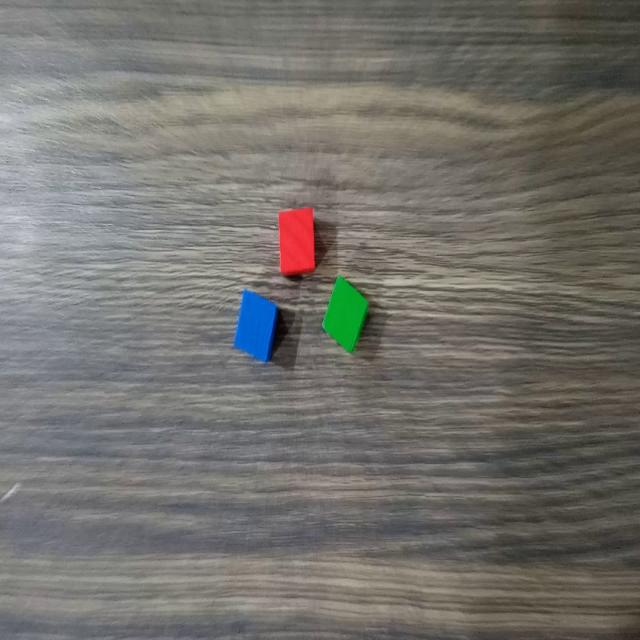cube: (321, 274, 373, 358), (230, 285, 281, 367), (277, 202, 318, 280)
